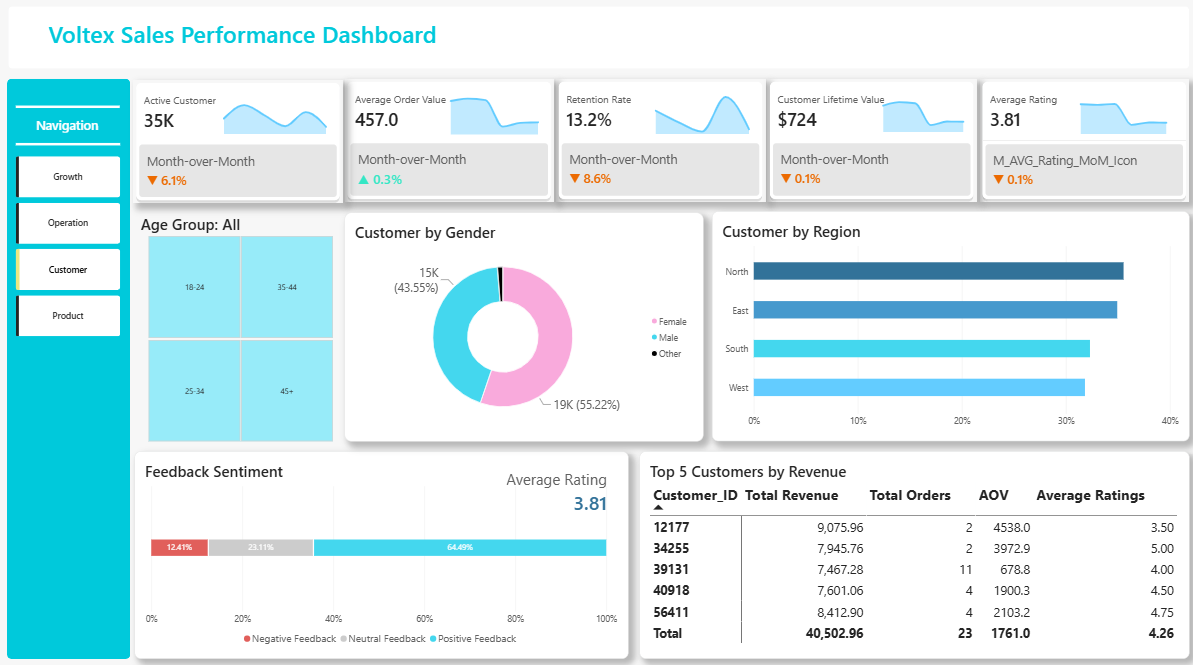

The dashboard page shown, as its layout file describes it:
{"tool":"powerbi","page":{"name":"Customer","canvas":[1920,1080],"ordinal":2},"visuals":[{"type":"shape","box":[15.7,134.7,197.1,928.6],"z":0},{"type":"shape","box":[17.9,17.9,1889.7,100],"z":1000},{"type":"pageNavigator","box":[30,258.6,167.1,291.4],"z":2000},{"type":"cardVisual","fields":{"Data":["*Measure.M_Active_Customers"]},"box":[218.3,136.7,335.9,197.4],"z":3000,"group":"g5"},{"type":"shape","box":[30,158.3,166.7,41.7],"z":3000},{"type":"shape","box":[30,217.1,167.1,41.4],"z":4000},{"type":"cardVisual","fields":{"Data":["*Measure.M_AOV"]},"box":[555.4,134.7,335.9,197.4],"z":5000,"group":"g1"},{"type":"actionButton","title":"Navigation","box":[40,194.3,144.3,40],"z":5000},{"type":"actionButton","box":[0,5.7,715.7,112.9],"z":6000},{"type":"cardVisual","fields":{"Data":["*Measure.M_Retention_Rate"]},"box":[894.2,134.7,335.9,197.4],"z":6000,"group":"g2"},{"type":"group","id":"g1","title":"Group 3","box":[555.4,134.7,335.9,197.4],"z":7000},{"type":"cardVisual","fields":{"Data":["*Measure.M_LTV"]},"box":[1233,134.7,335.9,197.4],"z":7000,"group":"g3"},{"type":"group","id":"g2","title":"Group 4","box":[894.2,134.7,335.9,197.4],"z":8000},{"type":"cardVisual","fields":{"Data":["*Measure.M_AVG_Rating"]},"box":[1571.8,134.7,335.9,197.4],"z":8000,"group":"g4"},{"type":"group","id":"g3","title":"Group 5","box":[1233,134.7,335.9,197.4],"z":9000},{"type":"group","id":"g4","title":"Group 6","box":[1571.8,134.7,335.9,197.4],"z":10000},{"type":"group","id":"g5","title":"Group 2","box":[218.3,136.7,336.7,198.3],"z":11000},{"type":"lineChart","fields":{"Category":["dim_calendar.Date.Variation.Date Hierarchy.Month"],"Y":["*Measure.M_Active_Customers"]},"box":[333.3,128.3,221.7,110],"z":12000},{"type":"stackedAreaChart","fields":{"Category":["dim_calender.StartOfMonth.Variation.Date Hierarchy.Year","dim_calender.StartOfMonth.Variation.Date Hierarchy.Quarter","dim_calender.StartOfMonth.Variation.Date Hierarchy.Month","dim_calender.StartOfMonth.Variation.Date Hierarchy.Day"],"Y":["*Measure.M_AOV"]},"box":[700,135,191.7,103.3],"z":13000},{"type":"stackedAreaChart","fields":{"Category":["dim_calender.StartOfMonth.Variation.Date Hierarchy.Year","dim_calender.StartOfMonth.Variation.Date Hierarchy.Quarter","dim_calender.StartOfMonth.Variation.Date Hierarchy.Month","dim_calender.StartOfMonth.Variation.Date Hierarchy.Day"],"Y":["*Measure.M_Retention_Rate"]},"box":[1028.8,135,201.2,102.5],"z":14000},{"type":"stackedAreaChart","fields":{"Category":["dim_calender.StartOfMonth.Variation.Date Hierarchy.Year","dim_calender.StartOfMonth.Variation.Date Hierarchy.Quarter","dim_calender.StartOfMonth.Variation.Date Hierarchy.Month","dim_calender.StartOfMonth.Variation.Date Hierarchy.Day"],"Y":["*Measure.M_LTV"]},"box":[1391.7,131.7,180,103.3],"z":15000},{"type":"stackedAreaChart","fields":{"Category":["dim_calender.StartOfMonth.Variation.Date Hierarchy.Year","dim_calender.StartOfMonth.Variation.Date Hierarchy.Quarter","dim_calender.StartOfMonth.Variation.Date Hierarchy.Month","dim_calender.StartOfMonth.Variation.Date Hierarchy.Day"],"Y":["*Measure.M_AVG_Rating"]},"box":[1708.8,135,188.8,102.5],"z":16000},{"type":"slicer","title":"Customer by Age Group","fields":{"Values":["dim_customer.Age_Group"]},"box":[222,350,334,366],"z":17000},{"type":"hundredPercentStackedBarChart","title":"Feedback Sentiment","fields":{"Y":["*Measure.M_Feedback_Negative_Pct","*Measure.M_Feedback_Neutral_Pct","*Measure.M_Feedback_Positive_Pct"]},"box":[220,730,790,332],"z":18000},{"type":"donutChart","title":"Customer by Gender","fields":{"Category":["dim_customer.Customer_Gender"],"Y":["*Measure.M_Active_Customers"]},"box":[556,348,574,366],"z":19000},{"type":"clusteredBarChart","title":"Customer by Region","fields":{"Category":["dim_region.Region_Name"],"Y":["*Measure.M_Customer_Region_Pct"]},"box":[1144,346,764,368],"z":20000},{"type":"pivotTable","title":"Top 5 Customers by Revenue","fields":{"Rows":["fact_order.Customer_ID"],"Values":["*Measure.M_Total_Revenue","*Measure.M_Total_Orders","*Measure.M_AOV","*Measure.M_AVG_Rating"]},"box":[1028,730,880,332],"z":21000},{"type":"cardVisual","fields":{"Data":["*Measure.M_AVG_Rating"]},"box":[700,746,288,98],"z":22000}]}

Visuals, with their boxes in screenshot pixels (x1, y1, x2, y2), scaled from the page's 1920x1080 canvas onto the 1193x665 screenshot:
shape: <box>10,83,132,655</box>
shape: <box>11,11,1185,73</box>
pageNavigator: <box>19,159,122,339</box>
cardVisual - *Measure.M_Active_Customers: <box>136,84,344,206</box>
shape: <box>19,97,122,123</box>
shape: <box>19,134,122,159</box>
cardVisual - *Measure.M_AOV: <box>345,83,554,204</box>
"Navigation" actionButton: <box>25,120,115,144</box>
actionButton: <box>0,4,445,73</box>
cardVisual - *Measure.M_Retention_Rate: <box>556,83,764,204</box>
"Group 3" group: <box>345,83,554,204</box>
cardVisual - *Measure.M_LTV: <box>766,83,975,204</box>
"Group 4" group: <box>556,83,764,204</box>
cardVisual - *Measure.M_AVG_Rating: <box>977,83,1185,204</box>
"Group 5" group: <box>766,83,975,204</box>
"Group 6" group: <box>977,83,1185,204</box>
"Group 2" group: <box>136,84,345,206</box>
lineChart - dim_calendar.Date.Variation.Date Hierarchy.Month x *Measure.M_Active_Customers: <box>207,79,345,147</box>
stackedAreaChart - dim_calender.StartOfMonth.Variation.Date Hierarchy.Year x dim_calender.StartOfMonth.Variation.Date Hierarchy.Quarter: <box>435,83,554,147</box>
stackedAreaChart - dim_calender.StartOfMonth.Variation.Date Hierarchy.Year x dim_calender.StartOfMonth.Variation.Date Hierarchy.Quarter: <box>639,83,764,146</box>
stackedAreaChart - dim_calender.StartOfMonth.Variation.Date Hierarchy.Year x dim_calender.StartOfMonth.Variation.Date Hierarchy.Quarter: <box>865,81,977,145</box>
stackedAreaChart - dim_calender.StartOfMonth.Variation.Date Hierarchy.Year x dim_calender.StartOfMonth.Variation.Date Hierarchy.Quarter: <box>1062,83,1179,146</box>
"Customer by Age Group" slicer: <box>138,216,345,441</box>
"Feedback Sentiment" hundredPercentStackedBarChart: <box>137,449,628,654</box>
"Customer by Gender" donutChart: <box>345,214,702,440</box>
"Customer by Region" clusteredBarChart: <box>711,213,1186,440</box>
"Top 5 Customers by Revenue" pivotTable: <box>639,449,1186,654</box>
cardVisual - *Measure.M_AVG_Rating: <box>435,459,614,520</box>
